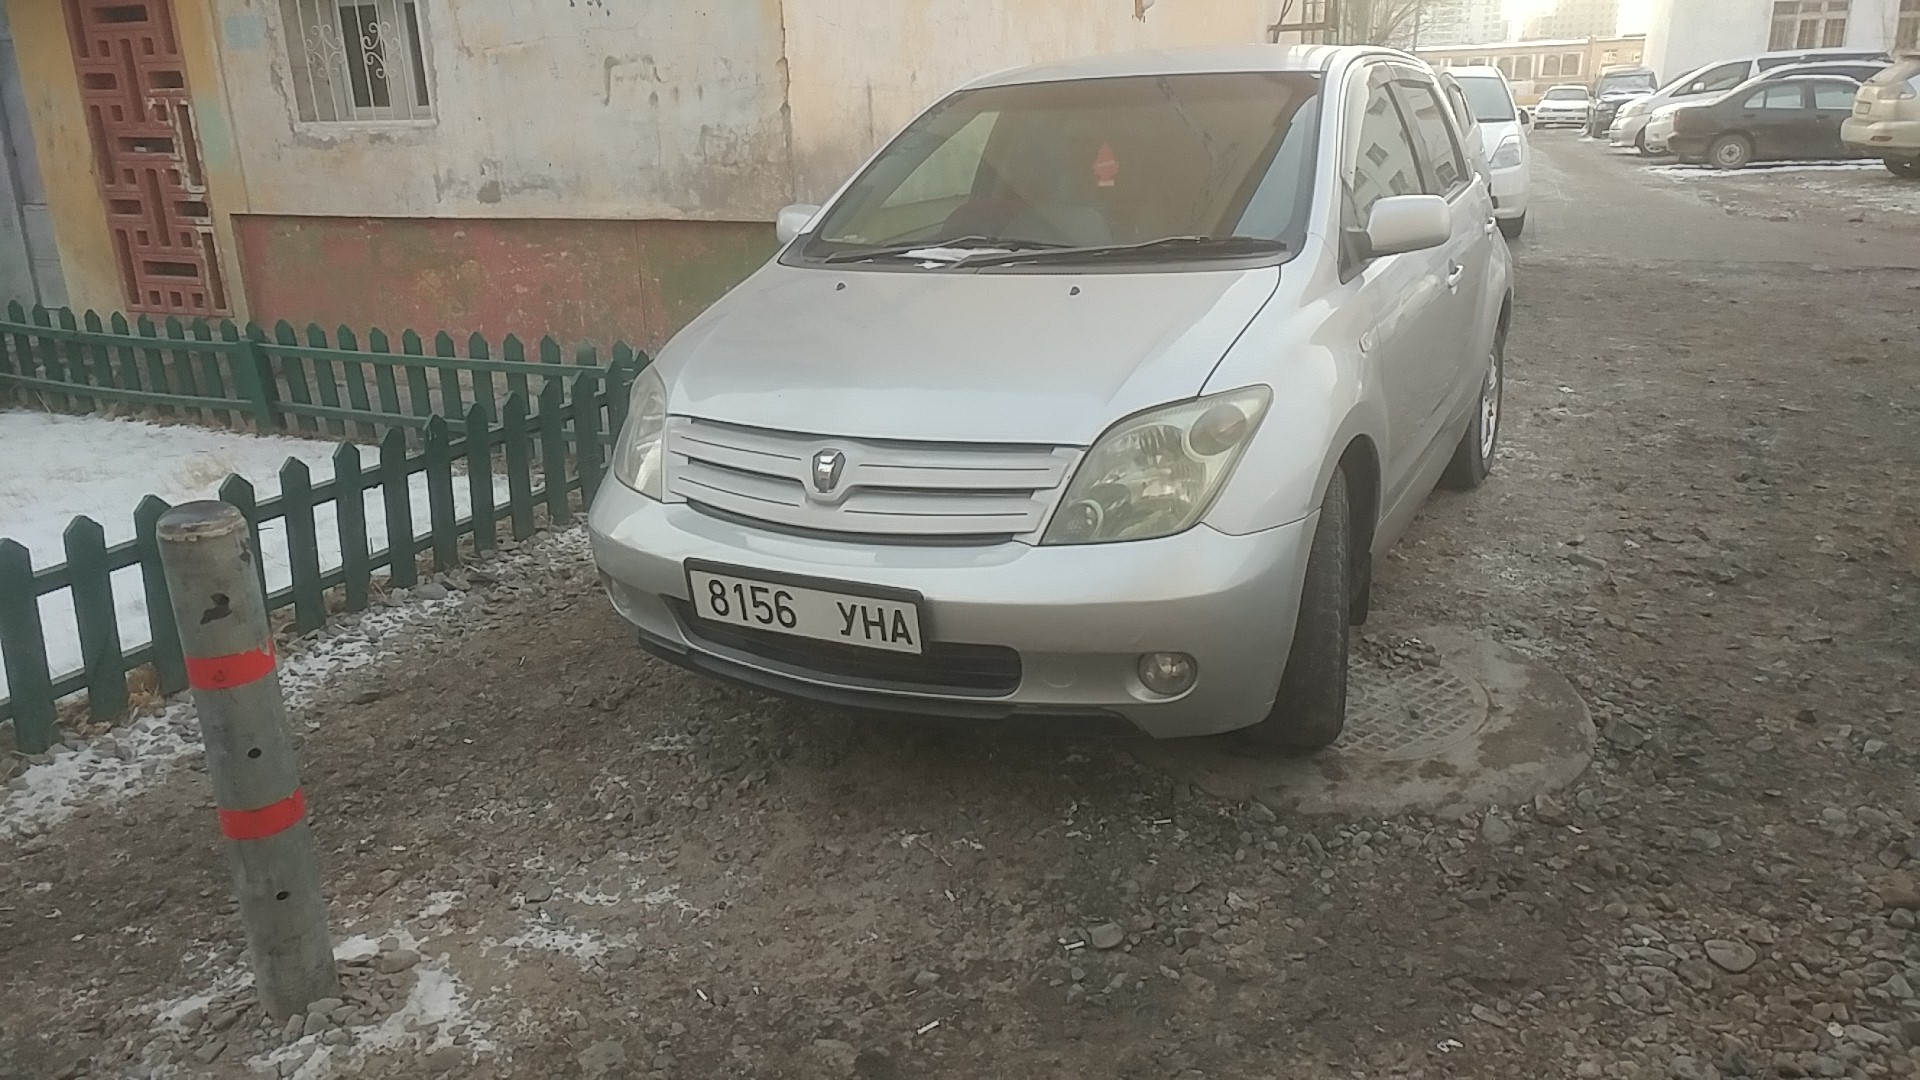1: (732, 582, 750, 622)
5: (750, 585, 775, 624)
6: (773, 588, 798, 628)
8: (707, 578, 731, 618)
a: (889, 607, 913, 644)
n: (859, 603, 890, 643)
plate: (686, 560, 928, 660)
u: (834, 598, 858, 637)
